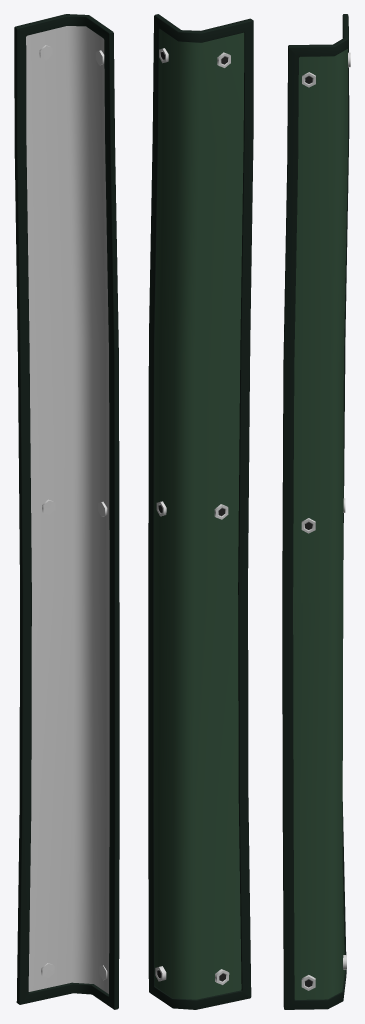
The model's file is SM_H_Tide_Dock_Fabric_01c_ATLAS.fbx.
3 renders of one model, left to right at view 1: azimuth 30°, elevation 25°; view 2: azimuth 210°, elevation 25°; view 3: azimuth 270°, elevation 25°, orthographic.
Parts seen in each view (by area): view 1: SM_H_Tide_Dock_Fabric_01c_ATLAS; view 2: SM_H_Tide_Dock_Fabric_01c_ATLAS; view 3: SM_H_Tide_Dock_Fabric_01c_ATLAS.
Part boxes in pixels (<box>): SM_H_Tide_Dock_Fabric_01c_ATLAS: <box>14,14,119,1009</box>; SM_H_Tide_Dock_Fabric_01c_ATLAS: <box>148,14,253,1009</box>; SM_H_Tide_Dock_Fabric_01c_ATLAS: <box>282,14,350,1009</box>.
Bounding box in the file's own units: 20.95 × 16.82 × 261.
